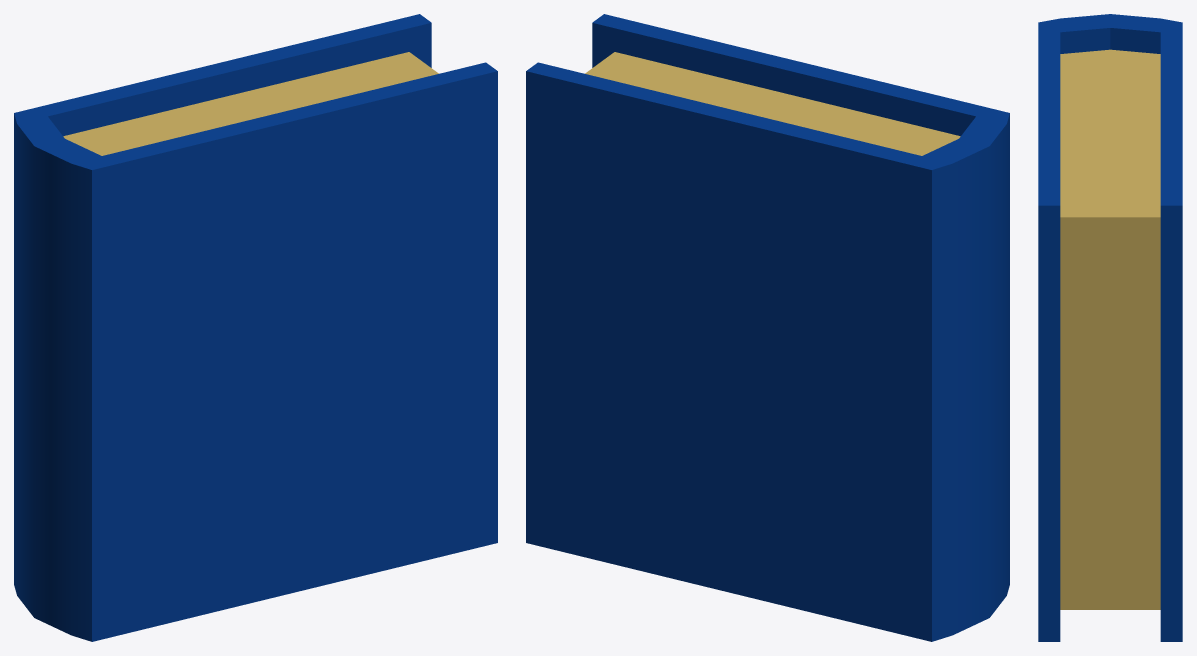
Rendered from New_Book.fbx.
3 views of the same model, side by side, from view 1: azimuth 30°, elevation 25°; view 2: azimuth 150°, elevation 25°; view 3: azimuth 270°, elevation 25° (orthographic). The views are drawn at different scales.
Visible parts, largest first — view 1: Unwrapped_Book; view 2: Unwrapped_Book; view 3: Unwrapped_Book.
Boxes of the visible parts, <box> form: Unwrapped_Book: <box>14,14,497,641</box>; Unwrapped_Book: <box>526,14,1009,641</box>; Unwrapped_Book: <box>1038,14,1182,641</box>.
Bounding box in the file's own units: 47.09 × 50 × 15.
